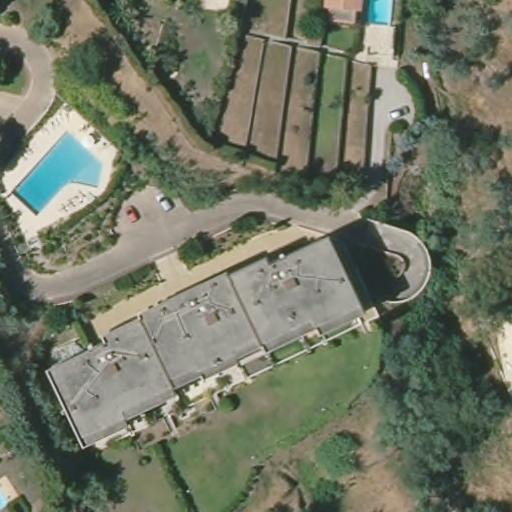pool: (8, 130, 103, 213), (365, 0, 400, 29)
